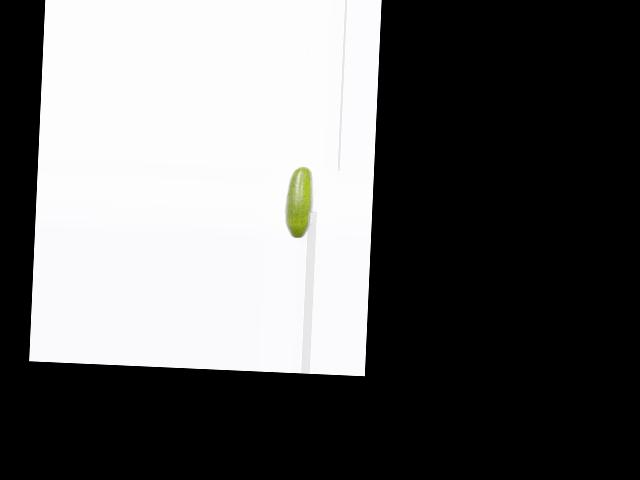cucumber: (283, 165, 314, 240)
